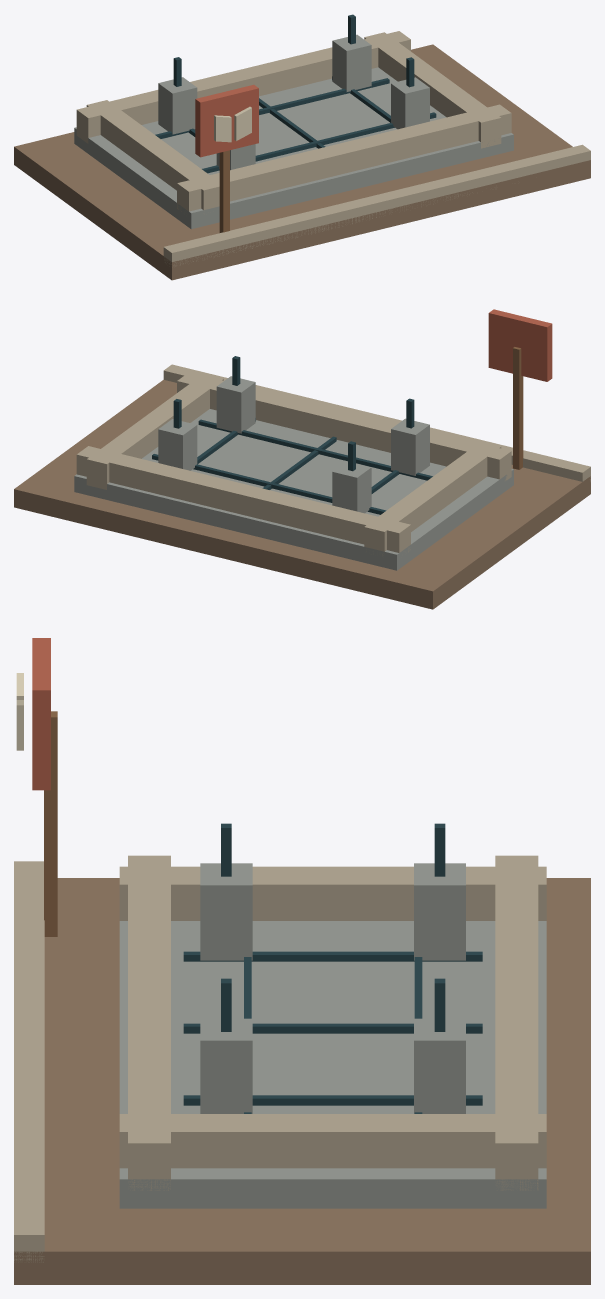
Rendered from library-foundation.glb.
3 renders of one model, top to bottom at view 1: azimuth 30°, elevation 25°; view 2: azimuth 150°, elevation 25°; view 3: azimuth 270°, elevation 25°, orthographic. The views are drawn at different scales.
Visible parts, largest first — view 1: library; view 2: library; view 3: library.
Part boxes in pixels (bbox=[...]): library: bbox=[14, 14, 590, 280]; library: bbox=[14, 309, 590, 609]; library: bbox=[14, 638, 590, 1284].
Bounding box in the file's own units: 2.88 × 1.09 × 1.88.
